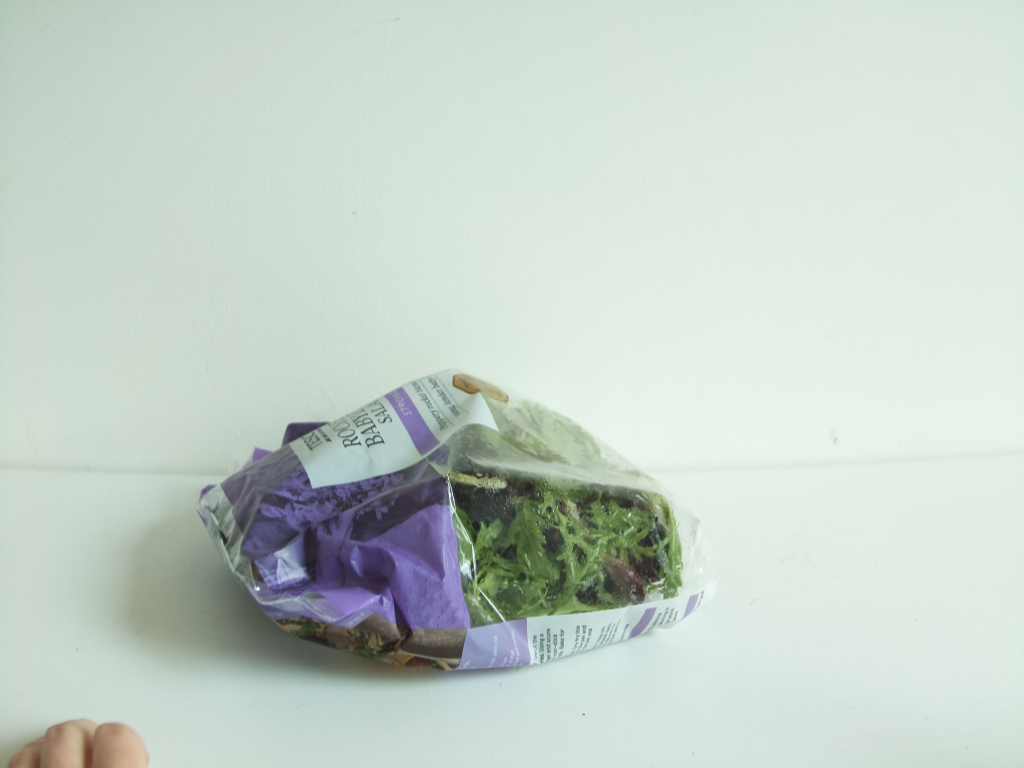salad: (196, 373, 705, 677)
